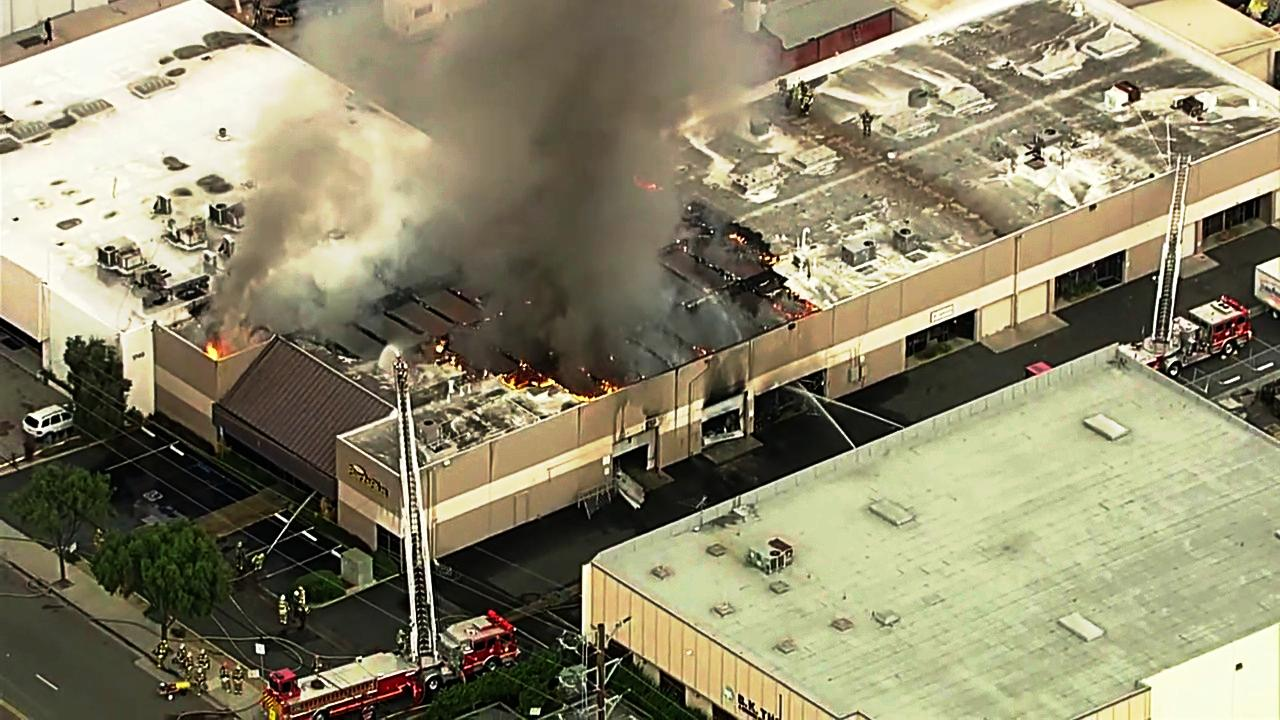smoke: (534, 1, 681, 310)
